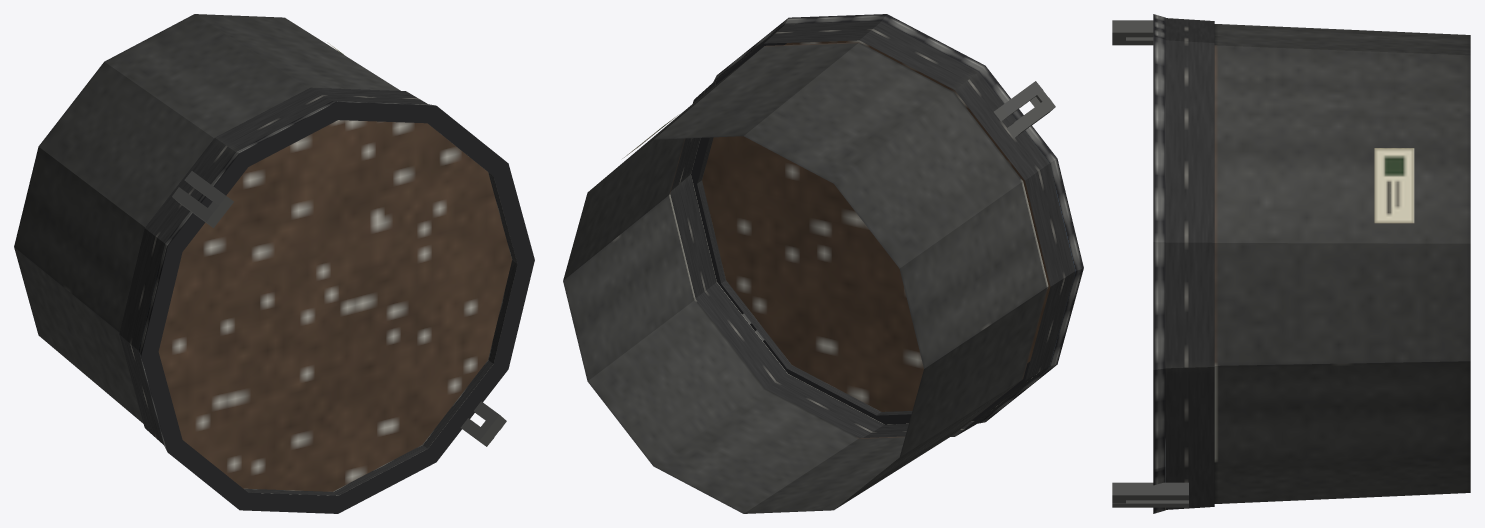
File: pot_bag_l_soil.obj
3 renders of one model, left to right at view 1: azimuth 30°, elevation 25°; view 2: azimuth 150°, elevation 25°; view 3: azimuth 270°, elevation 25°, orthographic. The views are drawn at different scales.
Bounding box in the file's own units: 0.82 × 0.82 × 0.585.
1 material, 1 textured.
